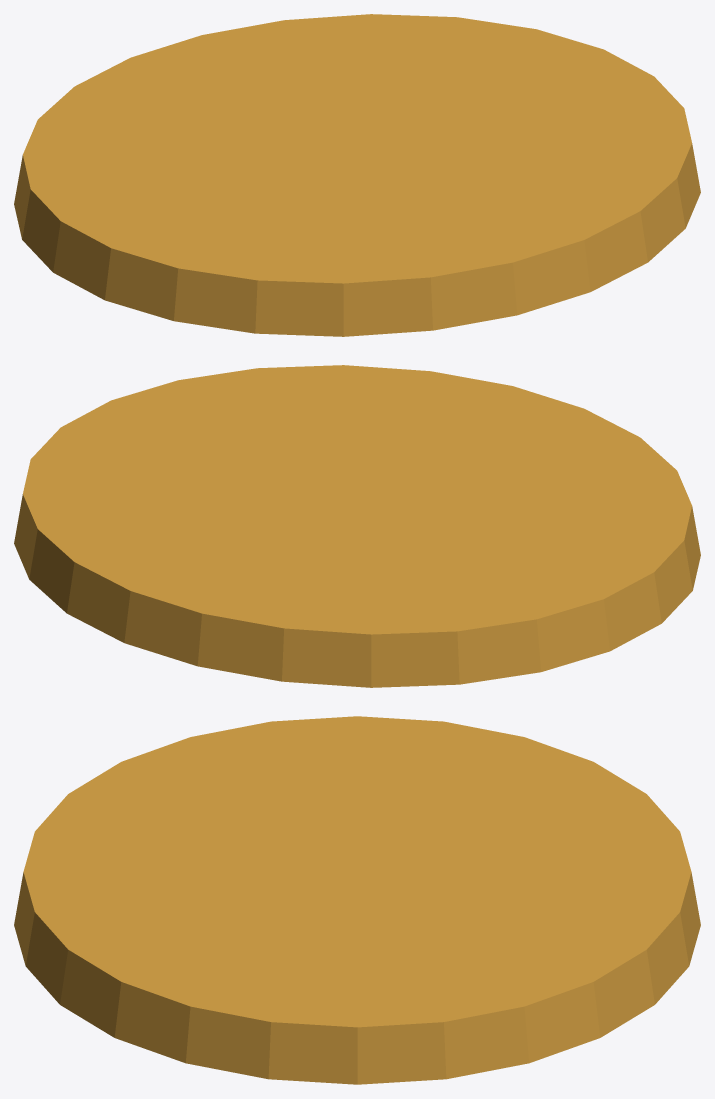
The model's file is acc-band.glb.
3 views of the same model, one above another, from view 1: azimuth 30°, elevation 25°; view 2: azimuth 150°, elevation 25°; view 3: azimuth 270°, elevation 25° (orthographic). The views are drawn at different scales.
Parts seen in each view (by area): view 1: Headband.010; view 2: Headband.010; view 3: Headband.010.
Boxes of the visible parts, left/top/right/bottom form: Headband.010: left=14, top=14, right=700, bottom=336; Headband.010: left=14, top=365, right=700, bottom=687; Headband.010: left=14, top=716, right=700, bottom=1084.
Size of the model in its own units: 0.398 by 0.031 by 0.362.
